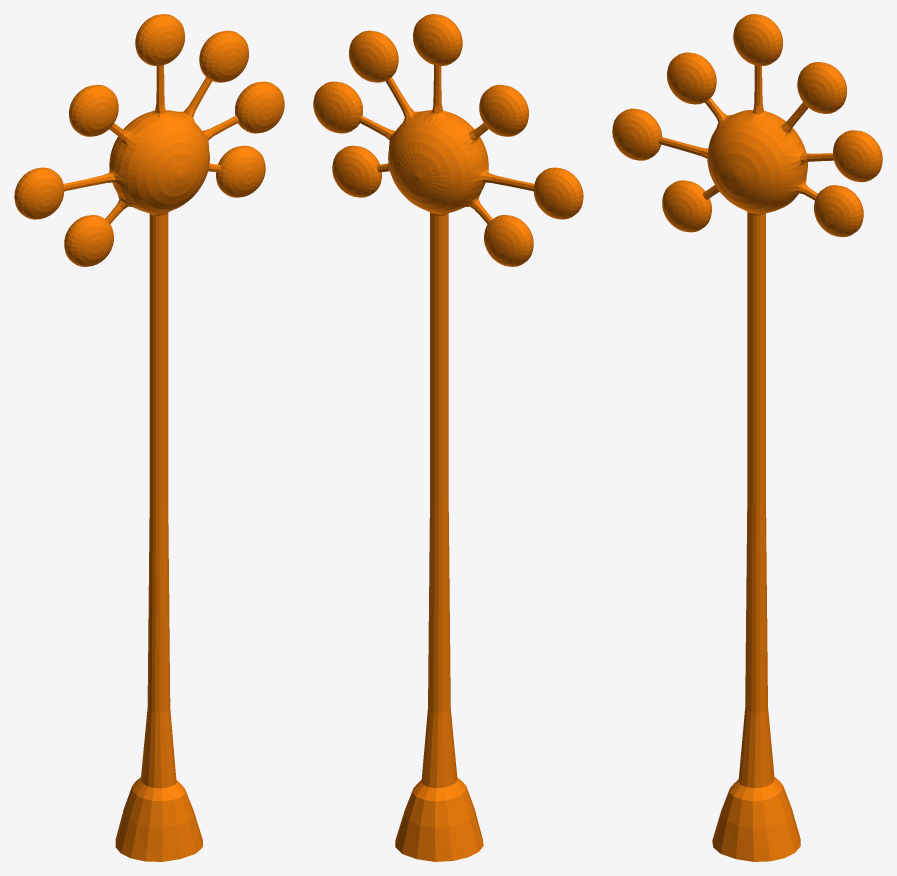
File: caducee_base.obj
3 views of the same model, side by side, from view 1: azimuth 30°, elevation 25°; view 2: azimuth 150°, elevation 25°; view 3: azimuth 330°, elevation 25° (orthographic).
Visible parts, largest first — view 1: caducee_base.obj; view 2: caducee_base.obj; view 3: caducee_base.obj.
Boxes of the visible parts, x1,y1,x2,y2 form: caducee_base.obj: (14,14,284,861); caducee_base.obj: (313,14,583,861); caducee_base.obj: (612,14,882,861).
Size of the model in its own units: 22.55 by 66.78 by 6.34.
